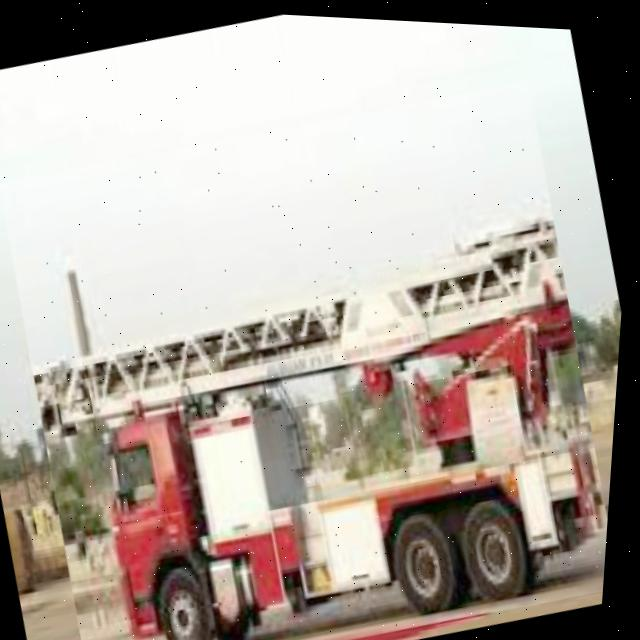Fire Truck: (0, 52, 637, 640)
